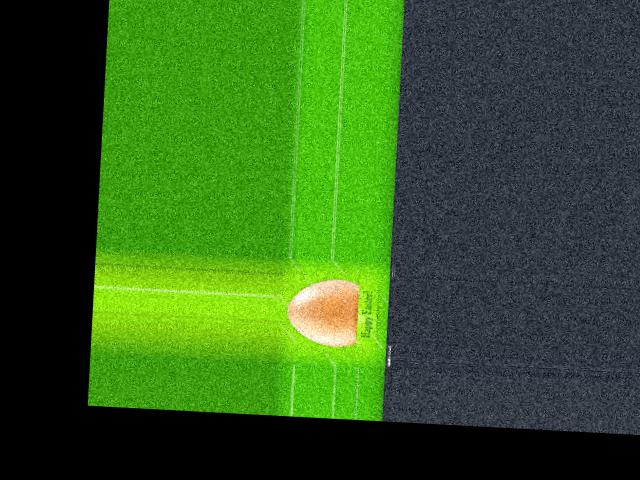egg: (285, 277, 359, 346)
